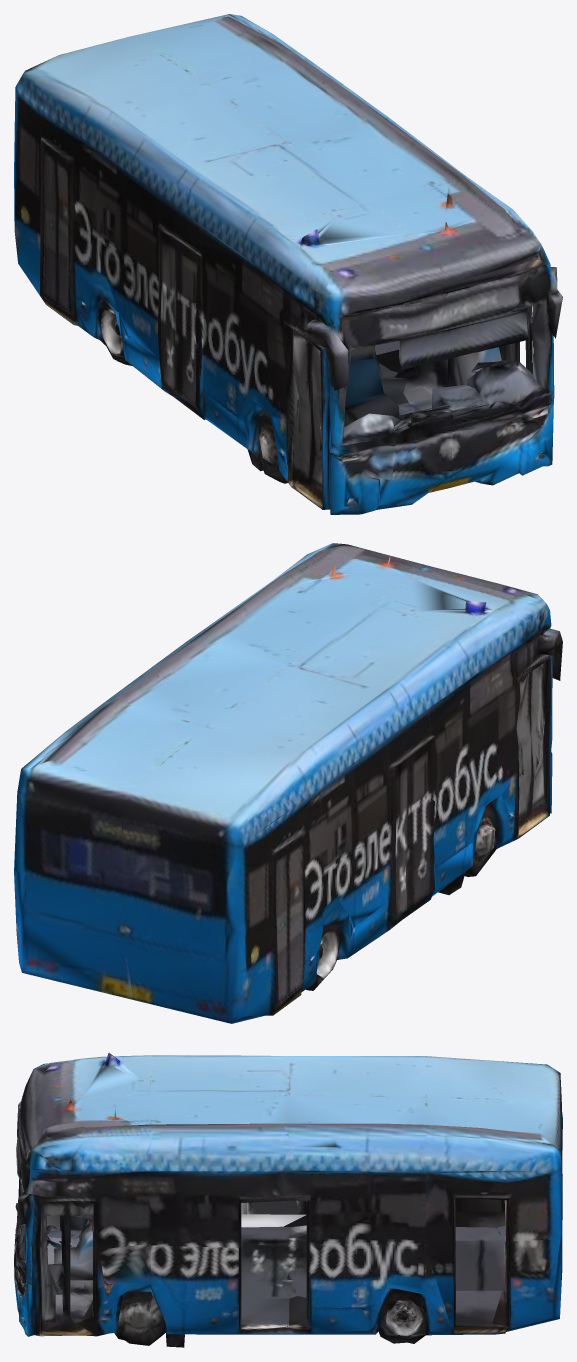
The model's file is transport-12.glb.
The picture shows the model from 3 angles, top to bottom: view 1: azimuth 30°, elevation 25°; view 2: azimuth 150°, elevation 25°; view 3: azimuth 270°, elevation 25°; orthographic projection. The views are drawn at different scales.
Bounding box in the file's own units: 0.7658 × 0.771 × 1.74.
Materials: 1 (1 with a texture image).
